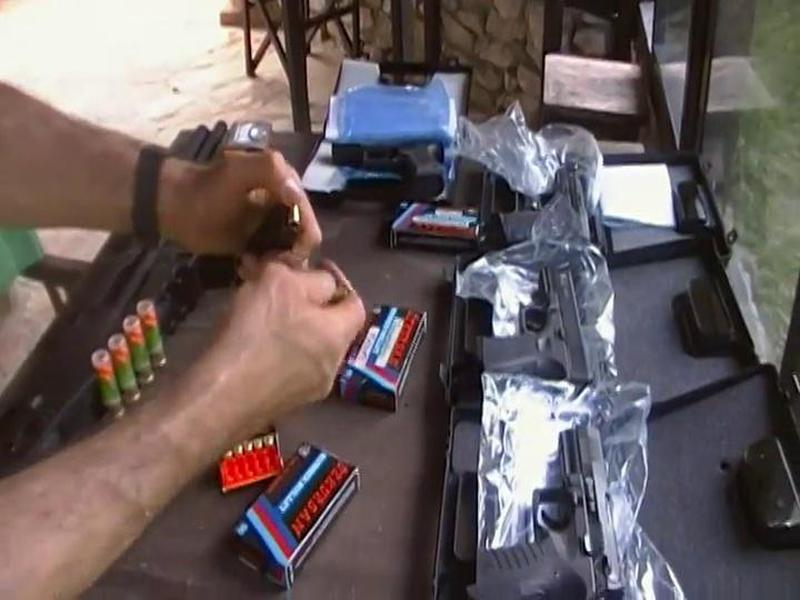Pistola: (455, 408, 652, 600), (454, 259, 606, 401)
